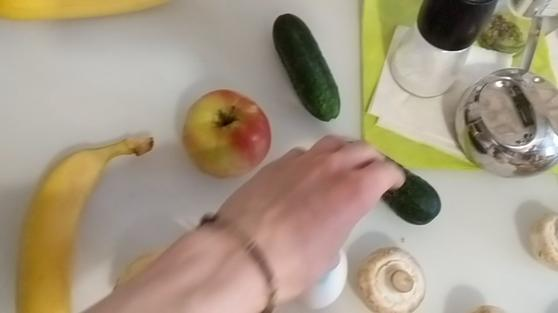banana: (14, 130, 156, 313)
champignon: (357, 247, 421, 313)
cucumber: (271, 8, 342, 126), (361, 149, 442, 223)
egg: (307, 248, 352, 309)
